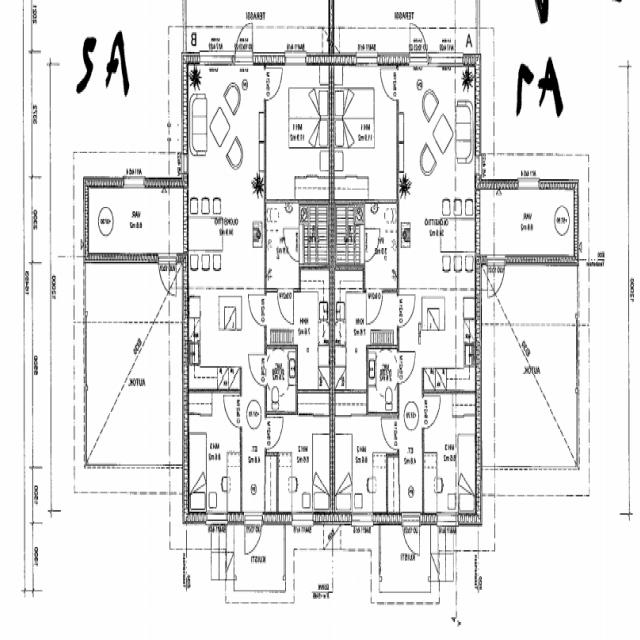door: (244, 512, 262, 559), (402, 512, 420, 558), (235, 18, 252, 66), (158, 254, 176, 298), (409, 20, 426, 66), (487, 253, 504, 296), (362, 228, 382, 261), (422, 395, 441, 428), (264, 68, 283, 100), (282, 228, 300, 261), (380, 69, 399, 100), (264, 418, 283, 449), (397, 352, 415, 384), (397, 295, 415, 327), (248, 294, 266, 326), (277, 288, 293, 323), (224, 397, 242, 428), (366, 288, 382, 322), (248, 355, 266, 385), (381, 418, 398, 449)
